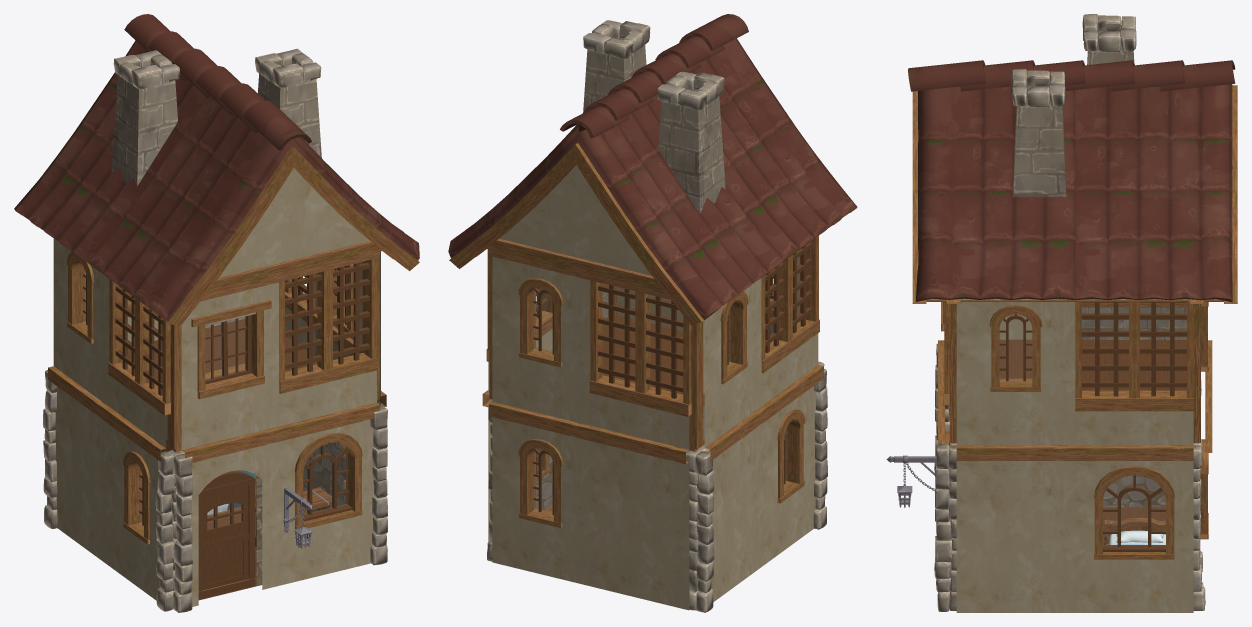
File: House_TwoStorey.glb
The picture shows the model from 3 angles, left to right: view 1: azimuth 30°, elevation 25°; view 2: azimuth 150°, elevation 25°; view 3: azimuth 270°, elevation 25°; orthographic projection. The views are drawn at different scales.
Parts seen in each view (by area): view 1: CasaSarah_RoofTiles, Wall_Plaster_WoodGrid, Wall_Plaster_Window_Wide_Flat, Wall_UnevenBrick_Window_Wide_Round.038, Roof_Front_Brick4.012, Wall_UnevenBrick_Straight.050, Wall_Plaster_WoodGrid.002, Wall_UnevenBrick_Door_Round.008, Prop_Chimney.007, Door_1_Round.010, Wall_UnevenBrick_Window_Thin_Round.043, Corner_Exterior_Brick.068 (+16 smaller); view 2: CasaSarah_RoofTiles, Wall_UnevenBrick_Straight.049, Wall_Plaster_WoodGrid.001, Wall_UnevenBrick_Window_Thin_Round.042, Wall_Plaster_Window_Thin_Round.003, Roof_Front_Brick4.013, Wall_UnevenBrick_Straight.050, Prop_Chimney.007, Wall_Plaster_WoodGrid.002, Wall_UnevenBrick_Window_Thin_Round.043, Wall_Plaster_Window_Thin_Round.004, Corner_Exterior_Brick.070 (+13 smaller); view 3: CasaSarah_RoofTiles, Wall_UnevenBrick_Straight.051, Wall_Plaster_WoodGrid.003, Wall_Plaster_Window_Thin_Round.005, Wall_UnevenBrick_Window_Wide_Round.039, Prop_Chimney.008, Window_Wide_Round1.051, Corner_Exterior_Brick.069, Window_Thin_Round1.044, Floor_WoodDark.062, Prop_Chimney.007, Wall_Plaster_Window_Thin_Round.004 (+13 smaller).
Boxes of the visible parts, box(x1,y1,x2,y2) form: CasaSarah_RoofTiles: box(14, 14, 419, 327); Wall_Plaster_WoodGrid: box(279, 251, 379, 426); Wall_Plaster_Window_Wide_Flat: box(181, 275, 282, 449); Wall_UnevenBrick_Window_Wide_Round.038: box(279, 402, 379, 585); Roof_Front_Brick4.012: box(206, 168, 382, 293); Wall_UnevenBrick_Straight.050: box(48, 366, 109, 566); Wall_Plaster_WoodGrid.002: box(108, 279, 170, 447); Wall_UnevenBrick_Door_Round.008: box(176, 426, 282, 606); Prop_Chimney.007: box(111, 50, 179, 185); Door_1_Round.010: box(198, 471, 255, 599); Wall_UnevenBrick_Window_Thin_Round.043: box(104, 407, 175, 600); Corner_Exterior_Brick.068: box(155, 450, 192, 612); CasaSarah_RoofTiles: box(448, 14, 857, 325); Wall_UnevenBrick_Straight.049: box(587, 426, 694, 610); Wall_Plaster_WoodGrid.001: box(587, 273, 691, 449); Wall_UnevenBrick_Window_Thin_Round.042: box(489, 402, 590, 586); Wall_Plaster_Window_Thin_Round.003: box(489, 249, 590, 425); Roof_Front_Brick4.013: box(486, 165, 664, 292); Wall_UnevenBrick_Straight.050: box(695, 406, 767, 601); Prop_Chimney.007: box(657, 71, 725, 213); Wall_Plaster_WoodGrid.002: box(761, 235, 819, 405); Wall_UnevenBrick_Window_Thin_Round.043: box(753, 365, 823, 566); Wall_Plaster_Window_Thin_Round.004: box(703, 278, 761, 447); Corner_Exterior_Brick.070: box(686, 444, 714, 612); CasaSarah_RoofTiles: box(908, 60, 1237, 303); Wall_UnevenBrick_Straight.051: box(956, 445, 1075, 612); Wall_Plaster_WoodGrid.003: box(1075, 302, 1193, 445); Wall_Plaster_Window_Thin_Round.005: box(956, 302, 1075, 445); Wall_UnevenBrick_Window_Wide_Round.039: box(1075, 445, 1193, 612); Prop_Chimney.008: box(1011, 69, 1066, 197); Window_Wide_Round1.051: box(1094, 465, 1174, 559); Corner_Exterior_Brick.069: box(934, 439, 956, 611); Window_Thin_Round1.044: box(989, 304, 1042, 391); Floor_WoodDark.062: box(1082, 339, 1186, 389); Prop_Chimney.007: box(1082, 14, 1136, 64); Wall_Plaster_Window_Thin_Round.004: box(1082, 302, 1186, 339).
Size of the model in its own units: 5.51 by 9.43 by 5.93.
46 materials, 42 textured.
